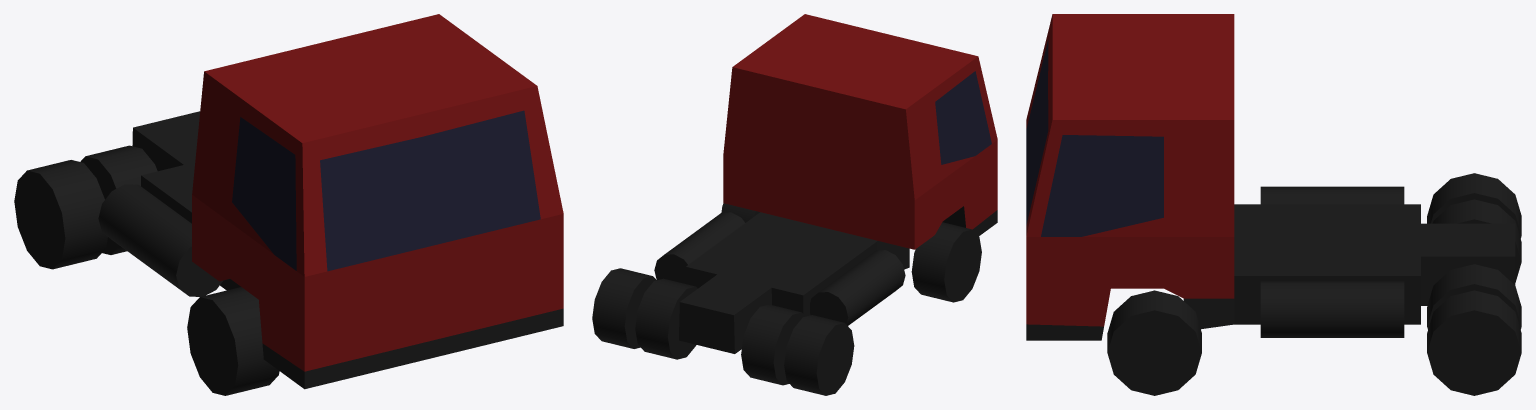
The model's file is truck.FBX.
3 views of the same model, side by side, from view 1: azimuth 30°, elevation 25°; view 2: azimuth 150°, elevation 25°; view 3: azimuth 270°, elevation 25° (orthographic). The views are drawn at different scales.
Parts seen in each view (by area): view 1: Truck; view 2: Truck; view 3: Truck.
Boxes of the visible parts, bbox=[...] form: Truck: bbox=[14, 14, 563, 395]; Truck: bbox=[592, 14, 997, 395]; Truck: bbox=[1026, 14, 1521, 395].
Bounding box in the file's own units: 124 × 110 × 189.
